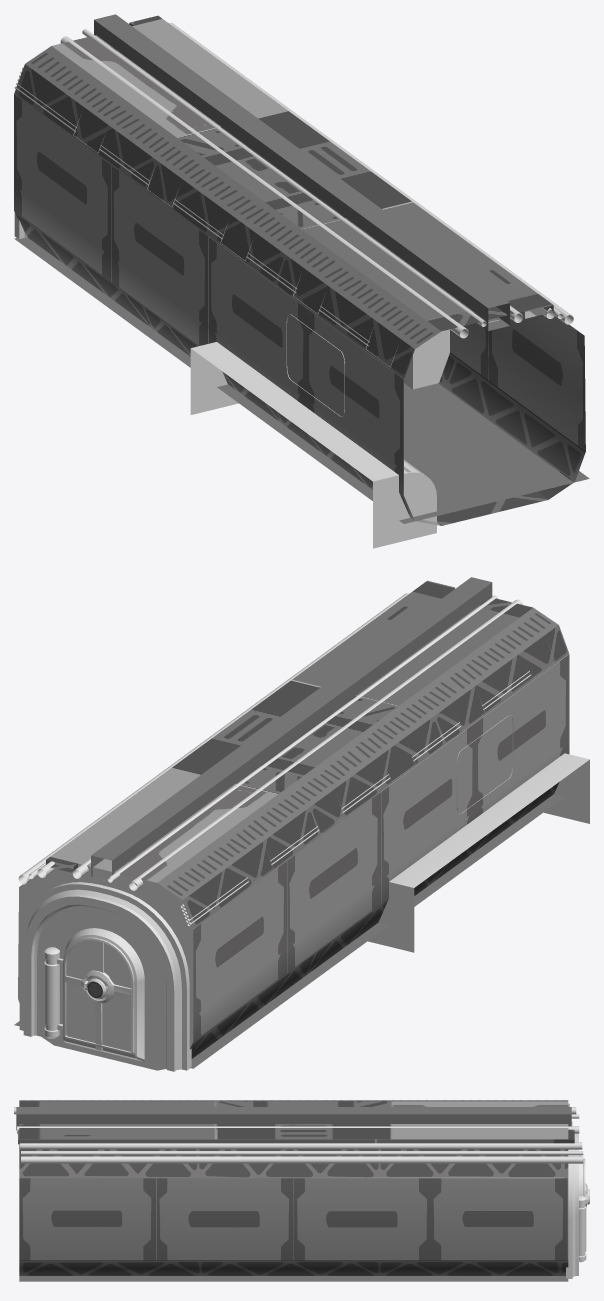
Rendered from ControlRoom.fbx.
3 views of the same model, one above another, from view 1: azimuth 30°, elevation 25°; view 2: azimuth 150°, elevation 25°; view 3: azimuth 270°, elevation 25° (orthographic). The views are drawn at different scales.
Parts seen in each view (by area): view 1: Room, Floor, LeftCab, PipesTop, RightCab_UI, WallTubes; view 2: Room, Doorway, Door, LeftCab, PipesTop, Floor, WallTubes; view 3: Room, PipesTop, Floor, Doorway, Door.
Part boxes in pixels (box(x1,y1,x2,y2)): Room: box(14, 14, 585, 525); Floor: box(14, 238, 589, 523); LeftCab: box(190, 342, 436, 548); PipesTop: box(60, 22, 573, 338); RightCab_UI: box(404, 329, 449, 389); WallTubes: box(14, 67, 396, 367); Room: box(18, 577, 569, 1070); Doorway: box(19, 882, 191, 1071); Door: box(44, 928, 144, 1061); LeftCab: box(368, 753, 589, 952); PipesTop: box(18, 593, 522, 890); Floor: box(14, 794, 564, 1068); WallTubes: box(180, 646, 555, 926); Room: box(16, 1100, 574, 1275); PipesTop: box(14, 1107, 583, 1163); Floor: box(19, 1276, 568, 1281); Doorway: box(565, 1121, 578, 1278); Door: box(579, 1155, 589, 1262).
Size of the model in its own units: 282 by 278 by 942.
